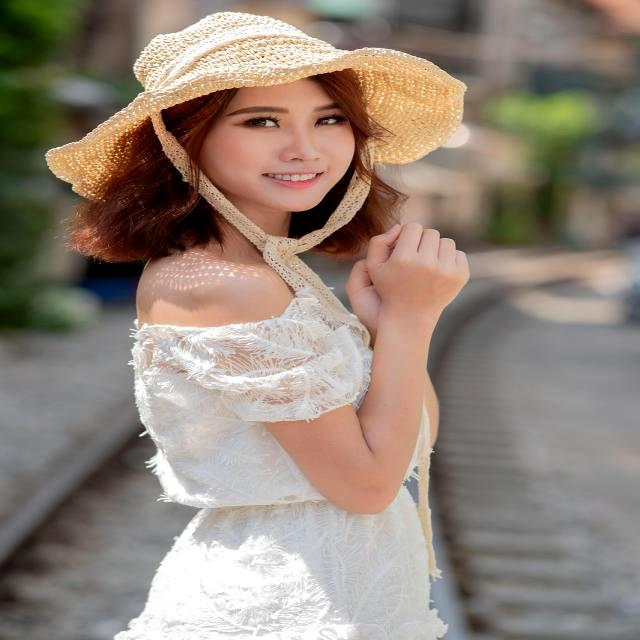no_hard_hat: (46, 12, 465, 198)
person: (83, 69, 471, 639)
